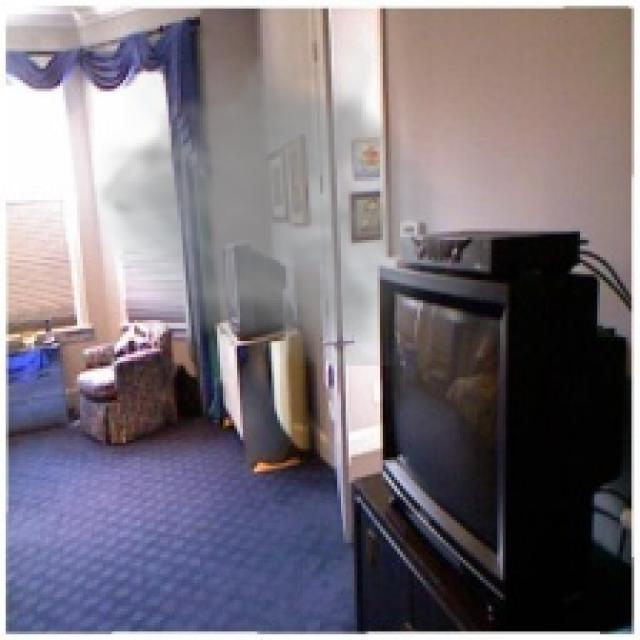smoke: (80, 17, 471, 366)
